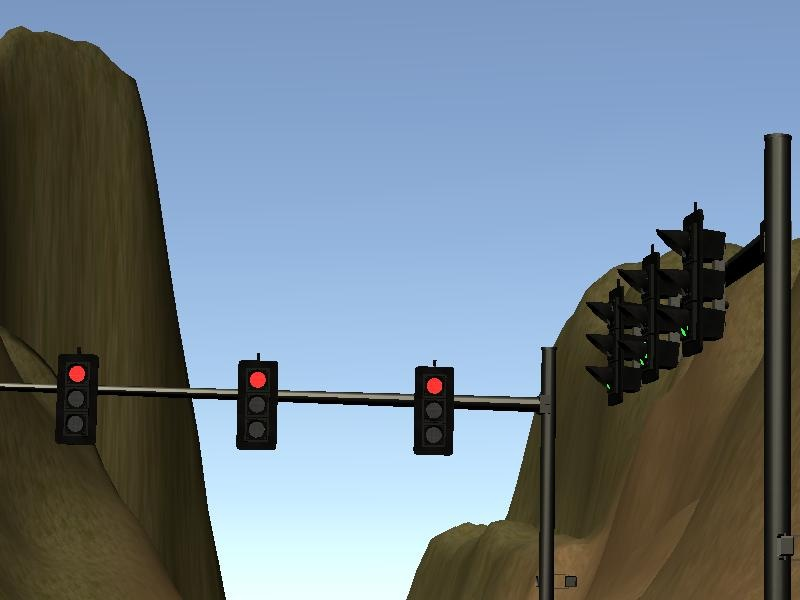red: (232, 352, 282, 454), (52, 346, 101, 448), (408, 362, 459, 459)
